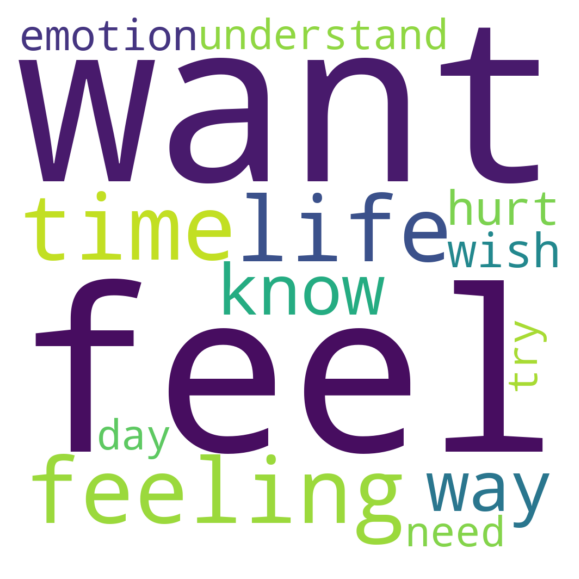

Layout of this report page (visuals, bound fields, positions):
{"tool":"tableau","page":{"name":"Dashboard 1","canvas":[1000,800],"ordinal":0},"visuals":[{"type":"worksheet","title":"Topics","mark":"Automatic","box":[74,14,886,777]},{"type":"worksheet","title":"Topics","mark":"Automatic","param":"[federated.0f70d2m07pqro519ml5wd1i6v16a].[none:type:nk]","box":[10,18,72,40]}]}

Visuals, with their boxes on the page's 1000x800 design canvas (x1, y1, x2, y2). These are canvas units, not pixel positions in the 579x579 screenshot, which may show the page scaled, cropped or inside an application window:
"Topics" worksheet: <region>74, 14, 960, 791</region>
"Topics" worksheet: <region>10, 18, 82, 58</region>
